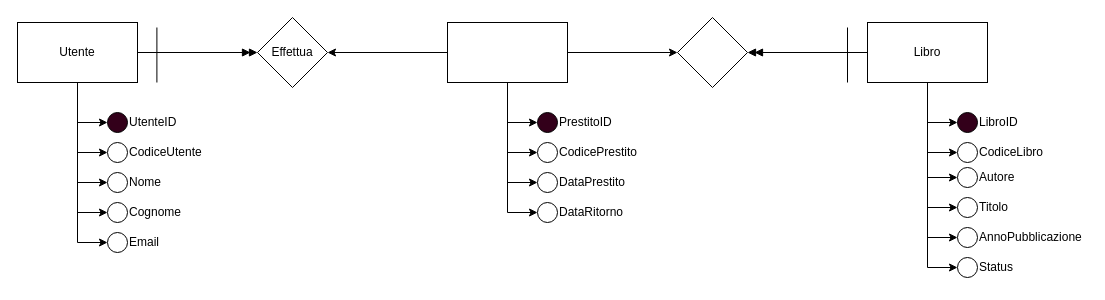
The diagram is 1105 pixels wide and 300 high, and some of its shapes have lost their labels. Here are the shapes that lost their labels. From the top down, the box of each, then its label:
(446, 22, 568, 82): Prestito
(676, 16, 748, 88): Dato
